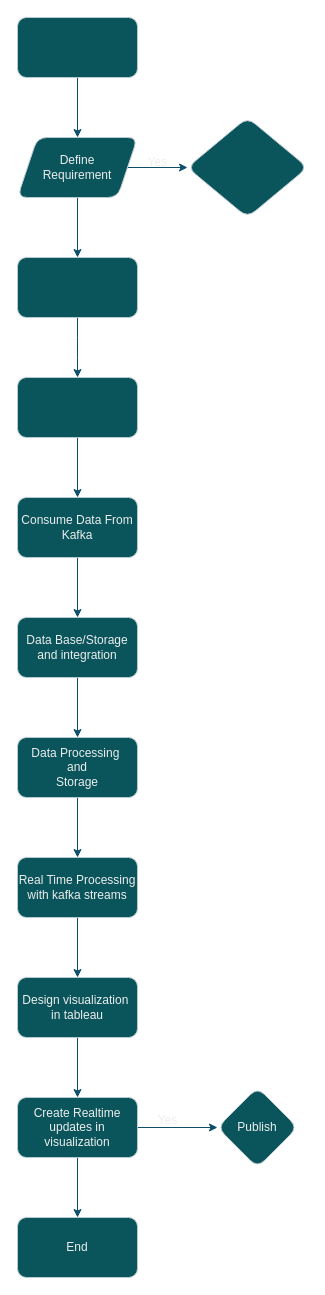
Image size: 325x1295. Some labels were removed from this diagram. Each missing label, with the centre of its shape:
Decide the frequency of data updates: (247,167)
Produce Data to Kafka: (77,407)
Setup Kafka: (77,287)
Start: (77,47)
